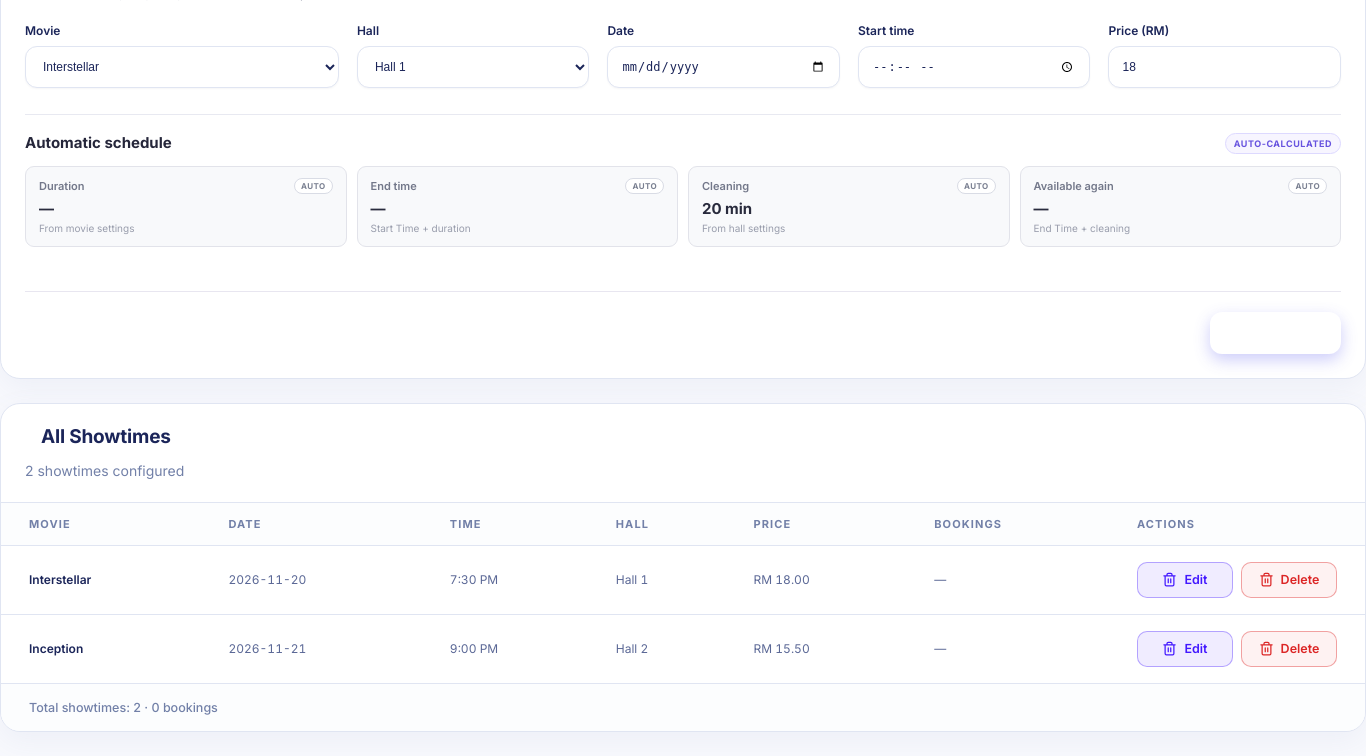
Scenario: Showtimes Admin Page › should delete a showtime after confirmation
(page scrolled)
Expected: the heading "All Showtimes" is shown, [41, 425, 171, 448]
What coordinates should you click on to do the following:
click the button "Delete" in the row of "Interstellar"
I would click on:
 (1289, 580)
Its box is [1241, 562, 1337, 598].
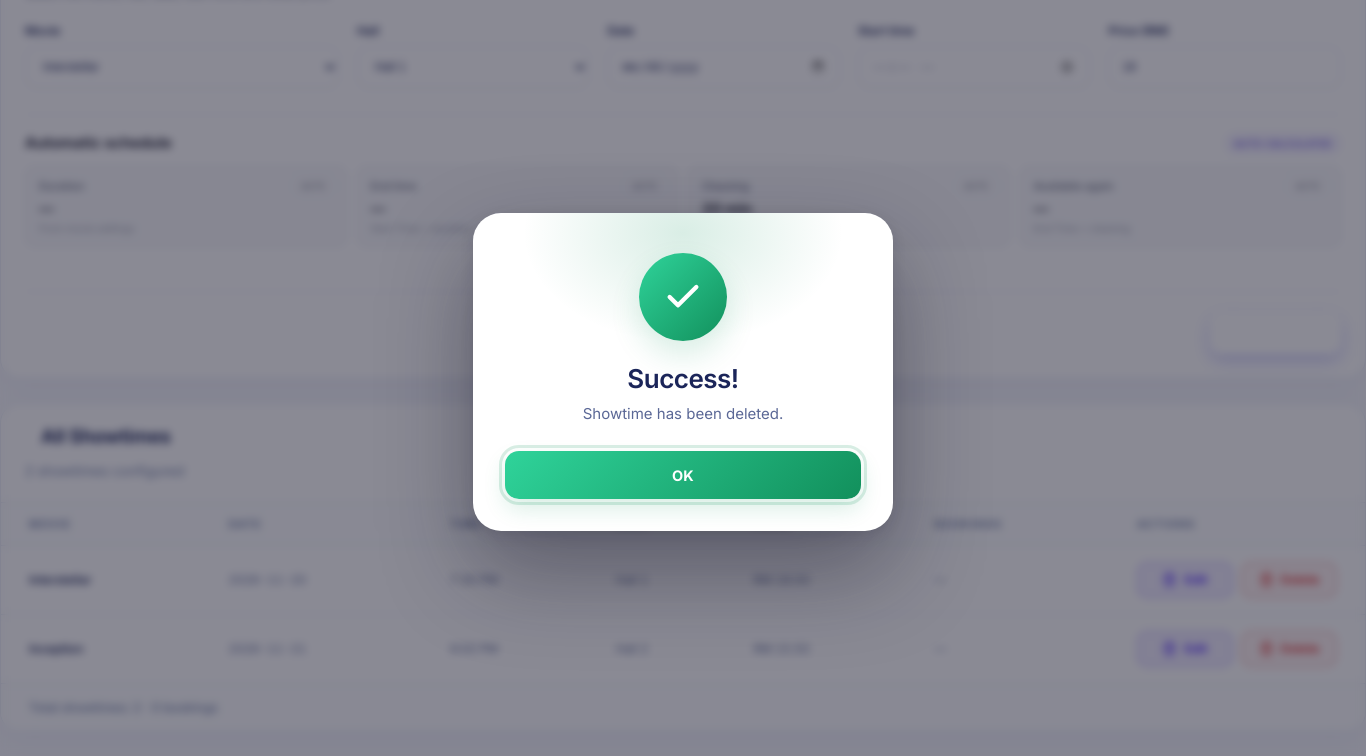
Expected: the message shows "Showtime has been deleted.", [583, 404, 783, 423]
